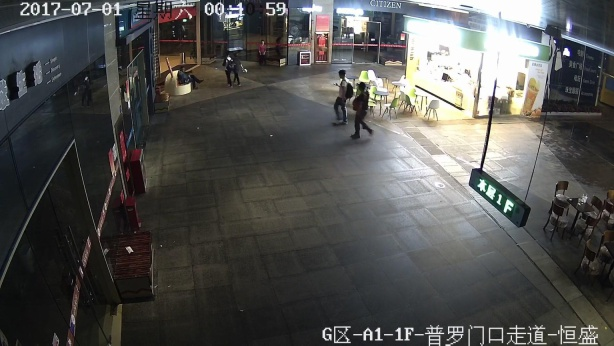person: (351, 78, 373, 147), (336, 64, 354, 132), (177, 64, 200, 86), (255, 38, 273, 66), (222, 53, 233, 86), (234, 52, 243, 87)
